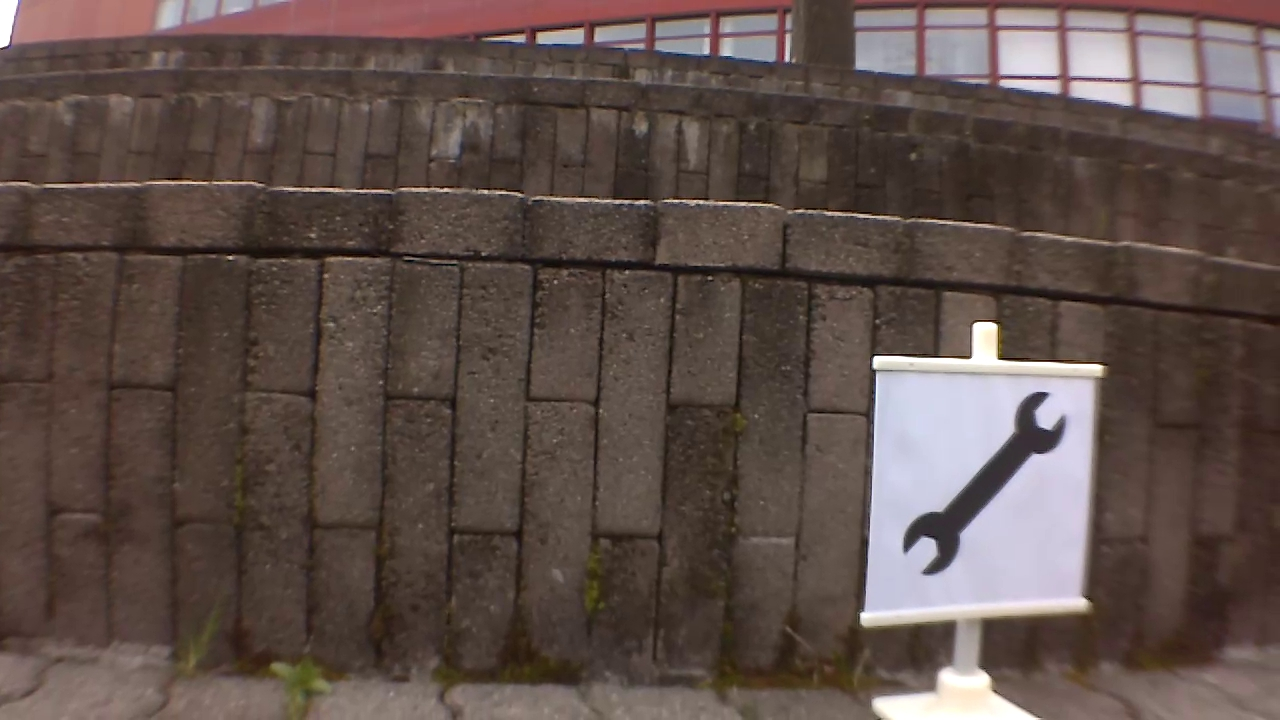wrench: (897, 386, 1069, 576)
